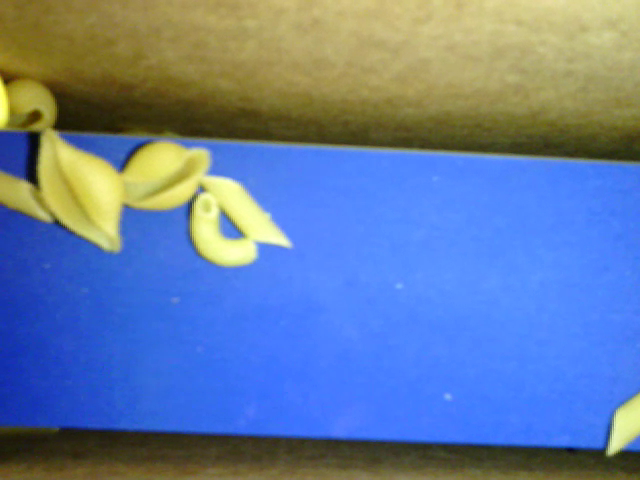elbow: (187, 193, 260, 271)
penne: (203, 174, 296, 251), (2, 171, 53, 226), (605, 390, 639, 459)
shell: (36, 126, 129, 252), (112, 144, 215, 212), (4, 76, 56, 135)
